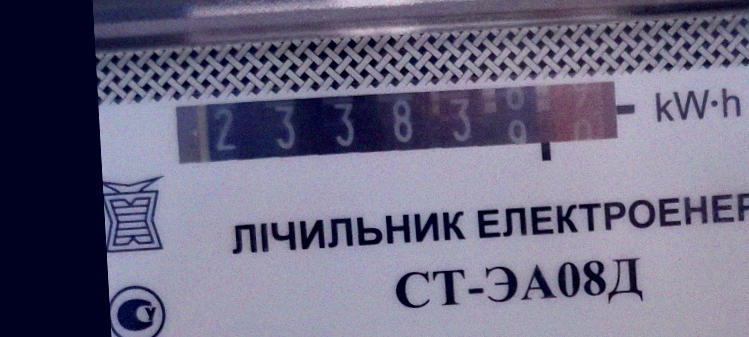0: (570, 115, 594, 142)
2: (211, 105, 237, 153)
3: (268, 100, 300, 150), (326, 98, 358, 148), (446, 94, 472, 141)
8: (386, 96, 416, 144), (502, 83, 526, 112)
9: (568, 79, 591, 110), (505, 115, 527, 146)
screen: (162, 68, 639, 185)
